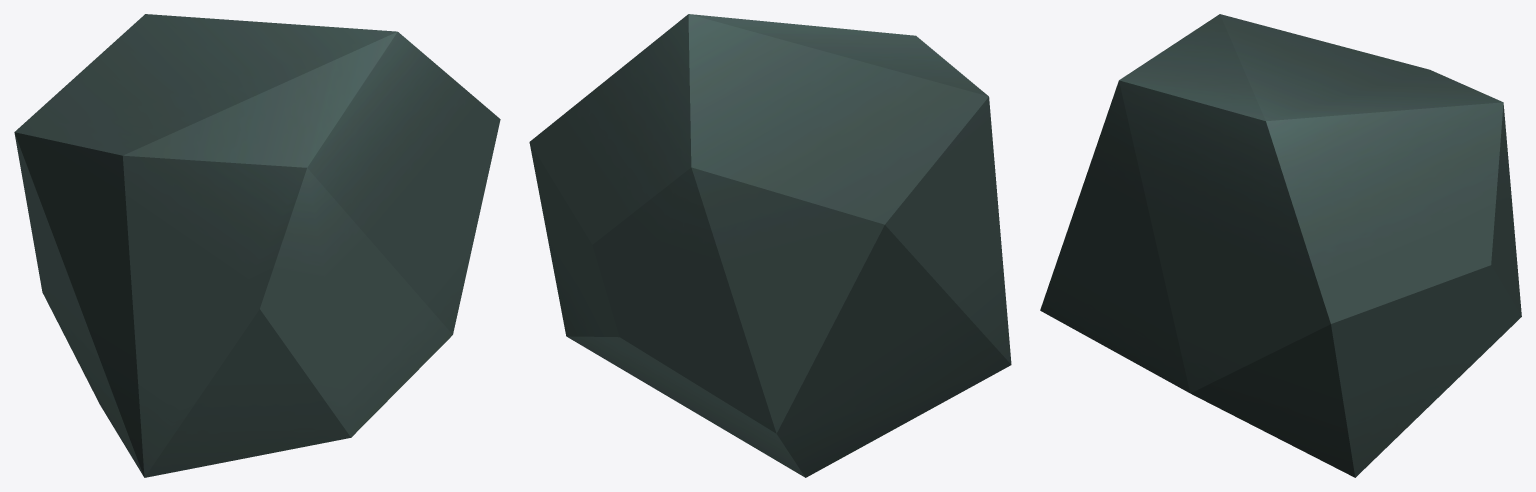
File: FBX_Rocks_01.fbx
3 renders of one model, left to right at view 1: azimuth 30°, elevation 25°; view 2: azimuth 150°, elevation 25°; view 3: azimuth 270°, elevation 25°, orthographic. The views are drawn at different scales.
Visible parts, largest first — view 1: M_Rock_01; view 2: M_Rock_01; view 3: M_Rock_01.
Boxes of the visible parts, bbox=[...] form: M_Rock_01: bbox=[14, 14, 500, 477]; M_Rock_01: bbox=[529, 14, 1011, 477]; M_Rock_01: bbox=[1040, 14, 1521, 477].
Size of the model in its own units: 1.71 by 1.43 by 1.71.
